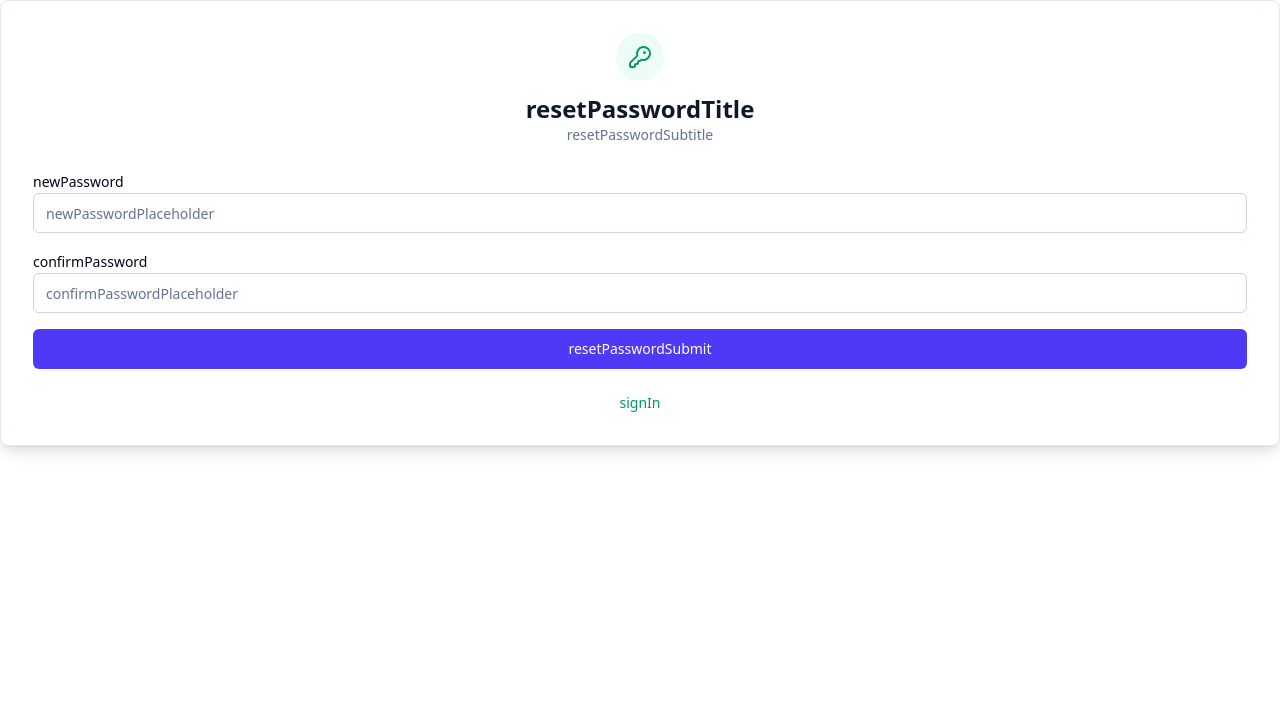
it: ResetPassword › shows error when password is shorter than 8 characters
Type "short" into the password field labelled "newPassword" at (640, 213), box 33,193 -> 1247,233
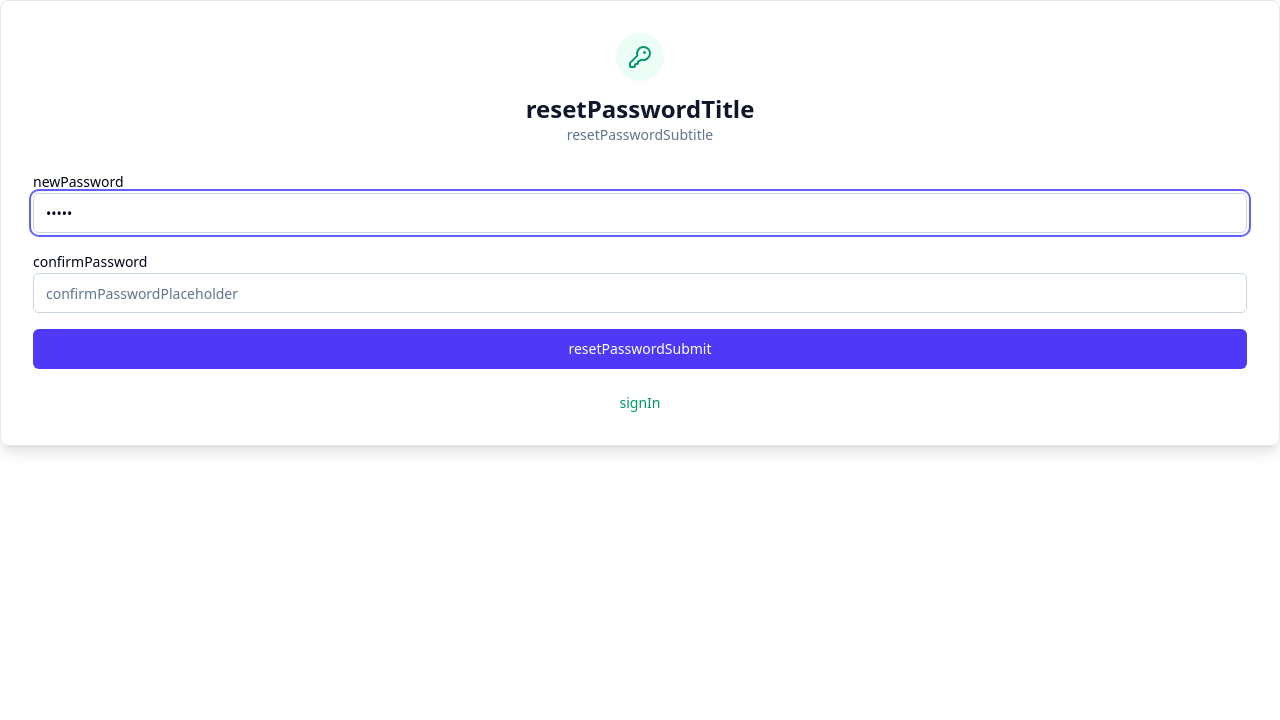
Type "short" into the password field labelled "confirmPassword" at (640, 293), box 33,273 -> 1247,313
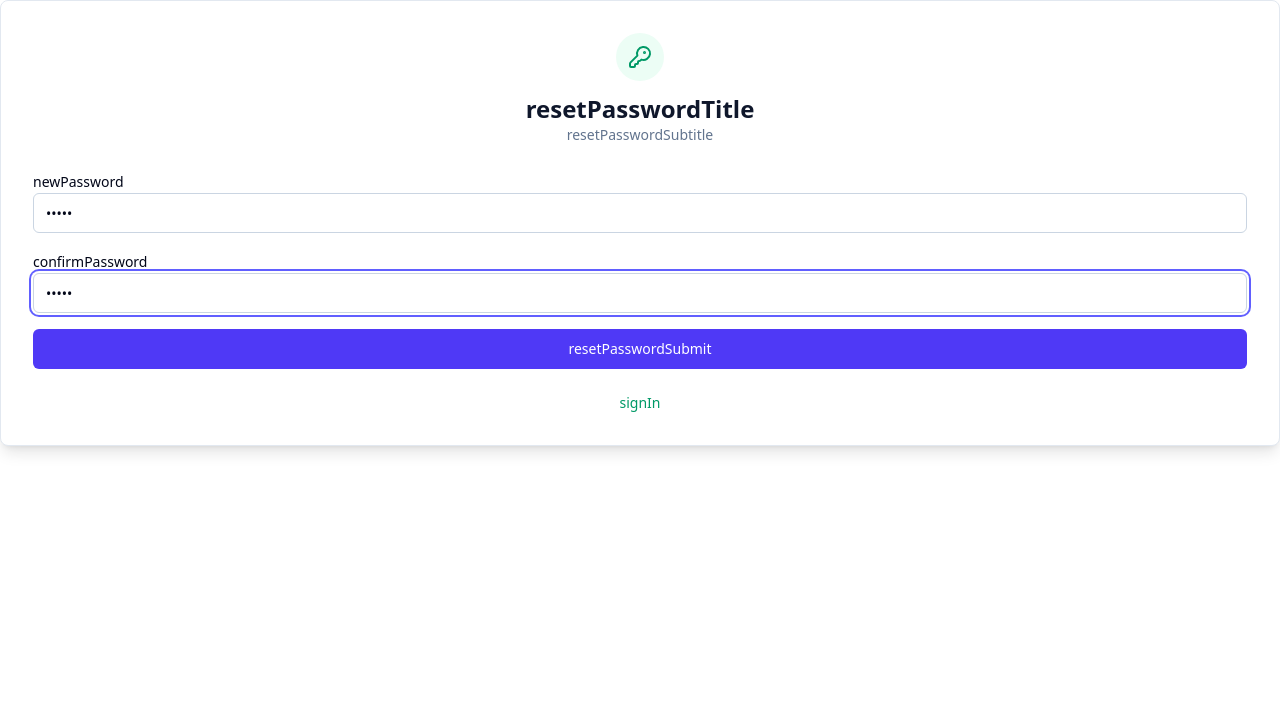
Click the button "resetPasswordSubmit" at (640, 349), box 33,329 -> 1247,369
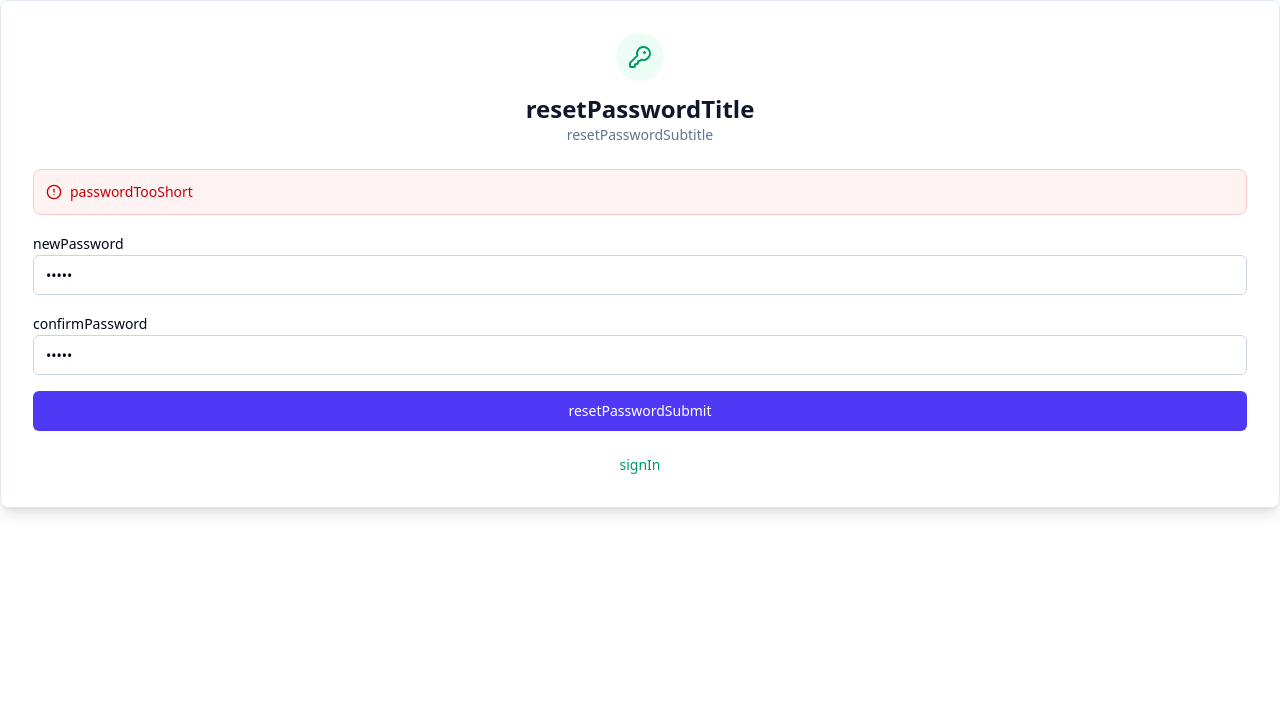
Expected: the text "passwordTooShort" is shown, 70,182 -> 193,202
